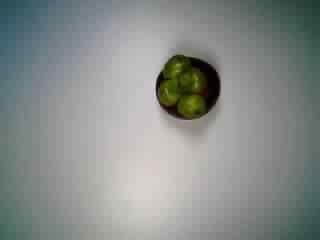mangosteen: (150, 51, 224, 123)
